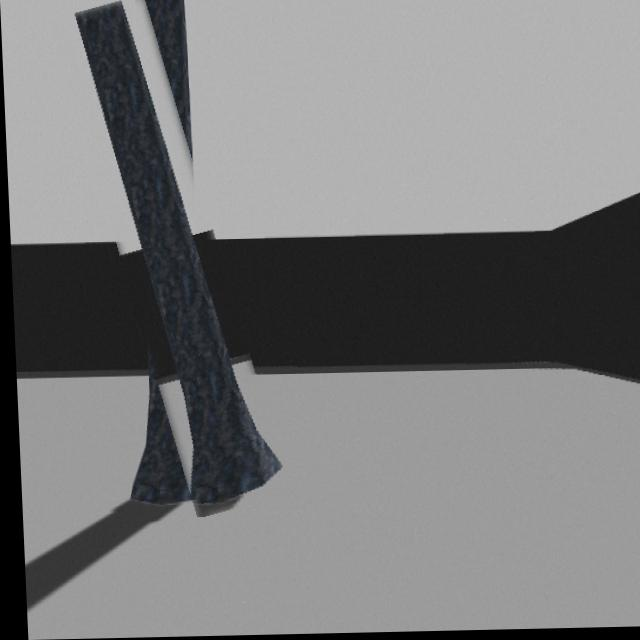tree: (73, 0, 277, 513)
